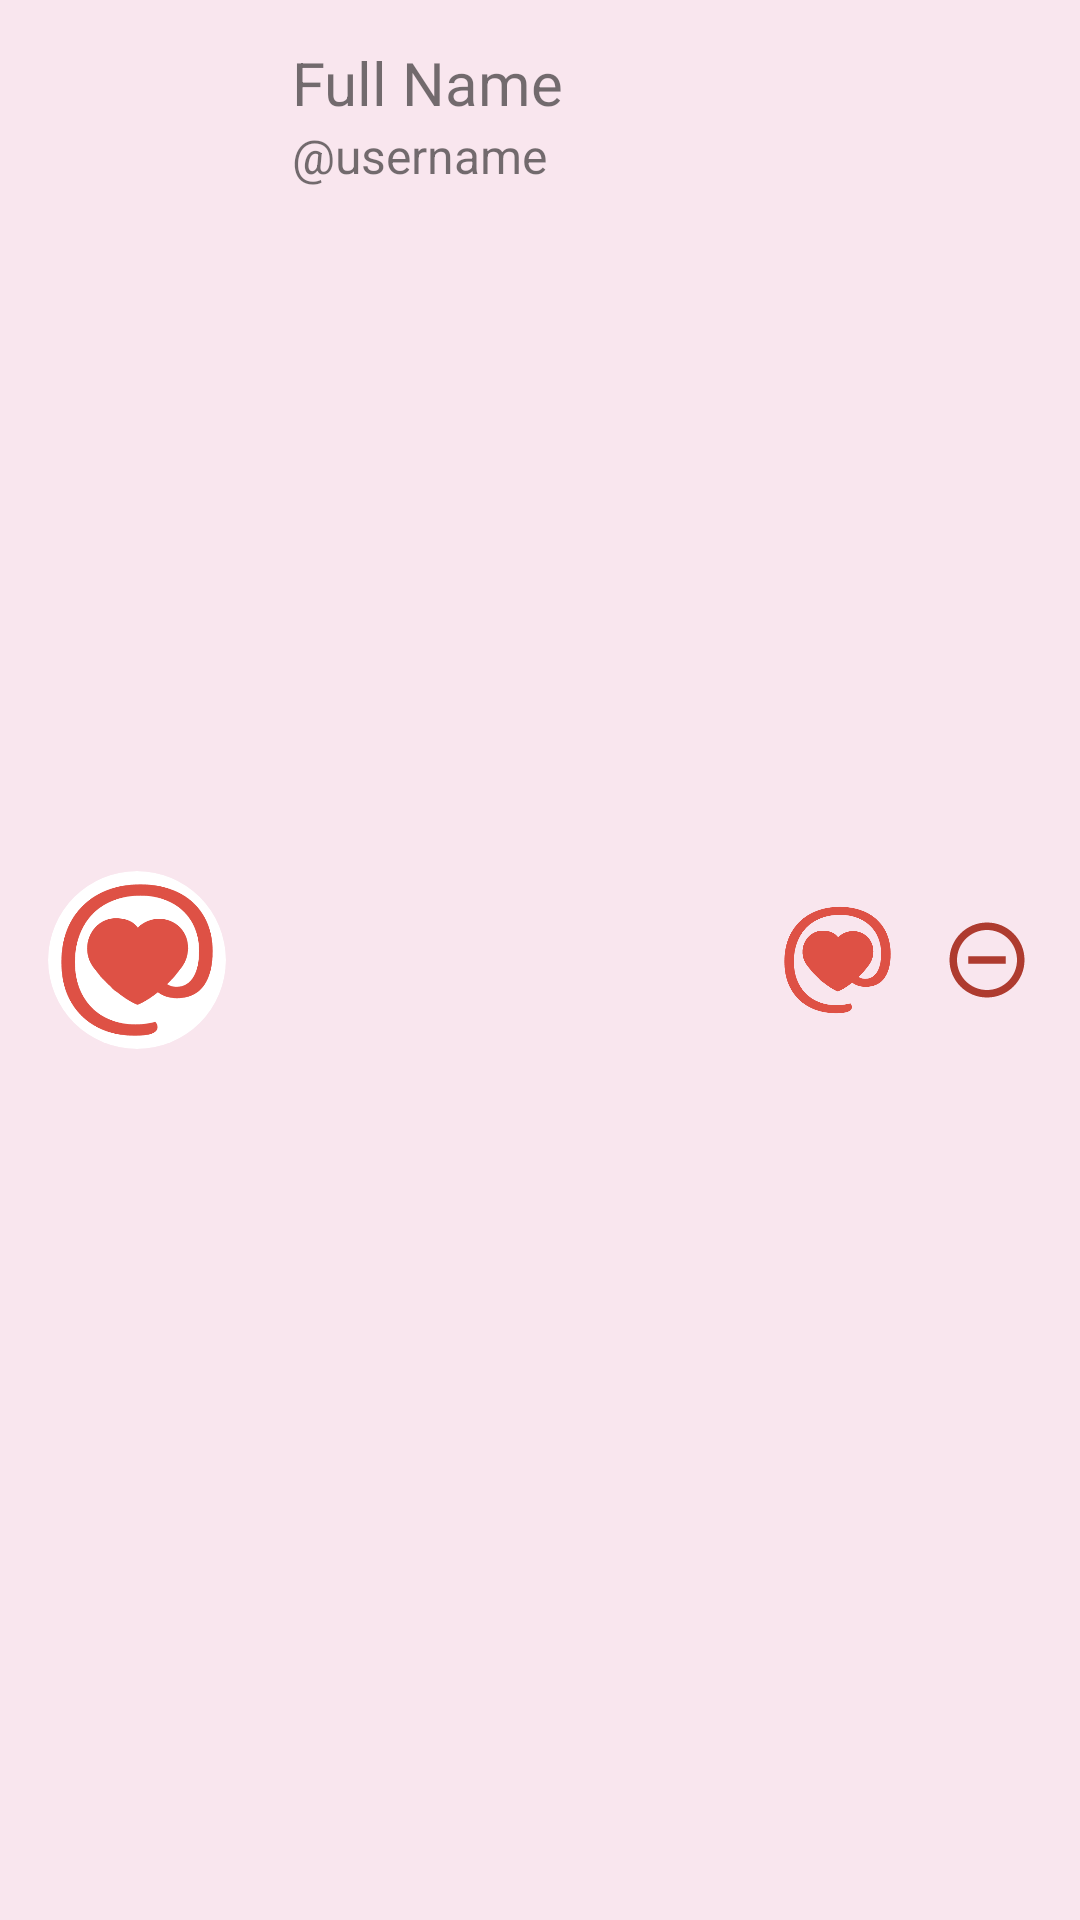

Named icons in this screenshot (1080px x 1920px) and their centers, [x,y]:
Remove: [987,960]
